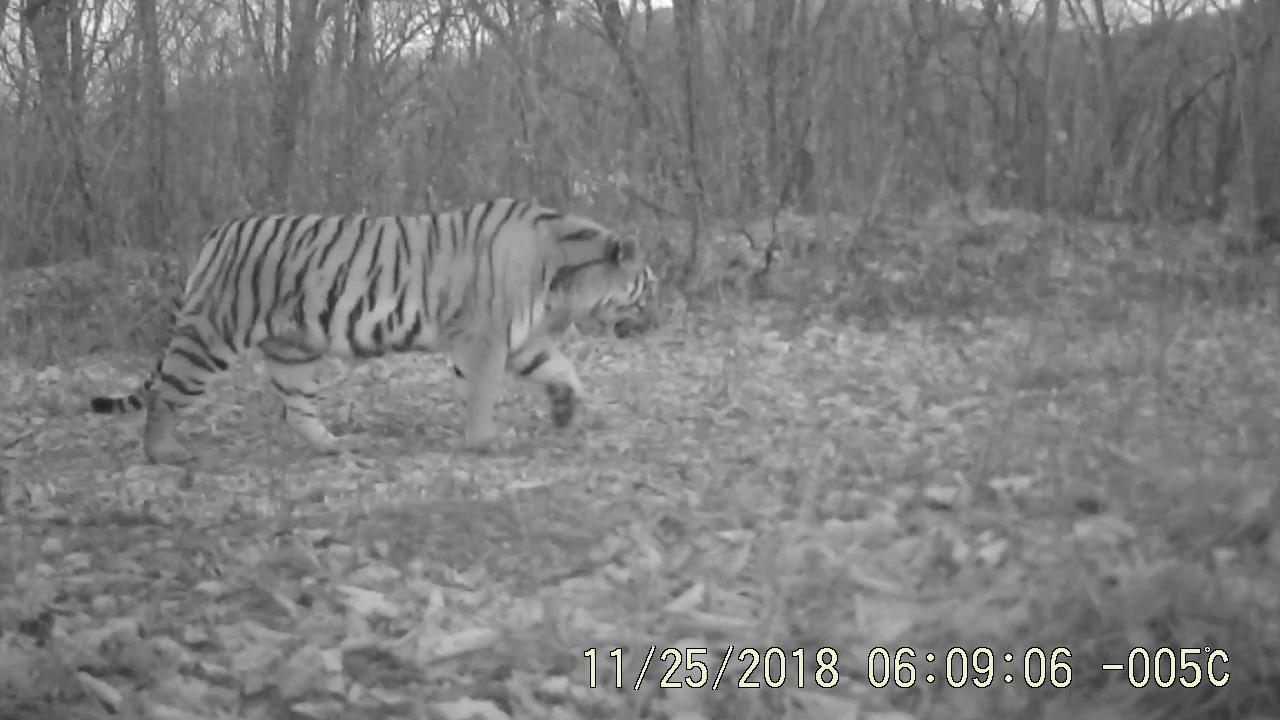Tiger: (63, 124, 781, 479)
